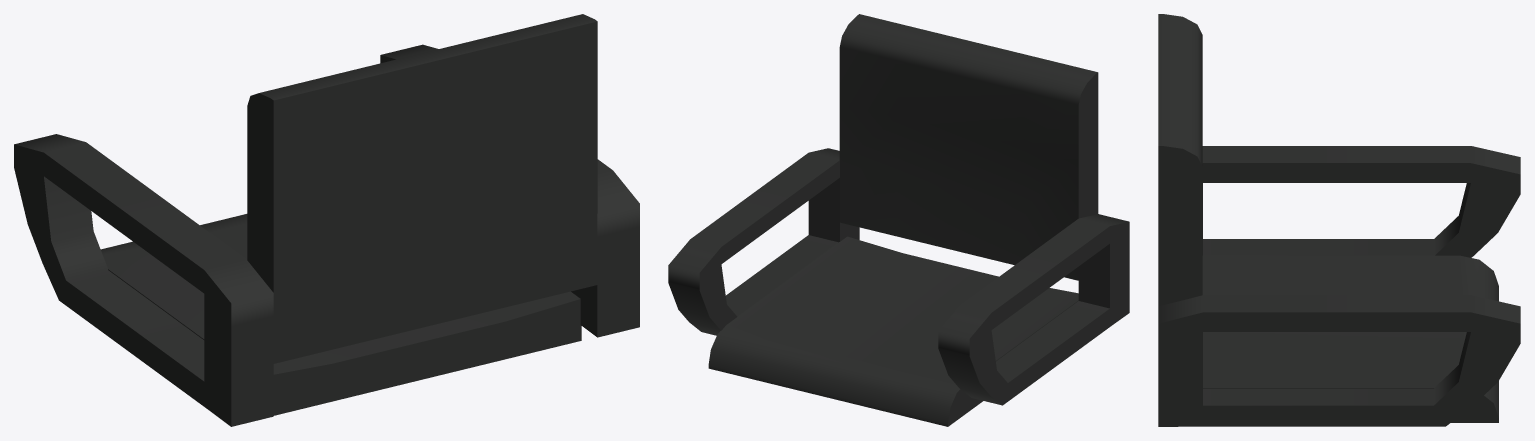
Rendered from Chair.fbx.
3 renders of one model, left to right at view 1: azimuth 30°, elevation 25°; view 2: azimuth 150°, elevation 25°; view 3: azimuth 270°, elevation 25°, orthographic. The views are drawn at different scales.
Visible parts, largest first — view 1: Chair; view 2: Chair; view 3: Chair.
Part boxes in pixels (x1,y1,x2,y2): Chair: (14,14,639,426); Chair: (668,14,1129,426); Chair: (1158,14,1520,426).
Bounding box in the file's own units: 1.8 × 1.39 × 1.65.
Materials: 1 (1 with a texture image).
